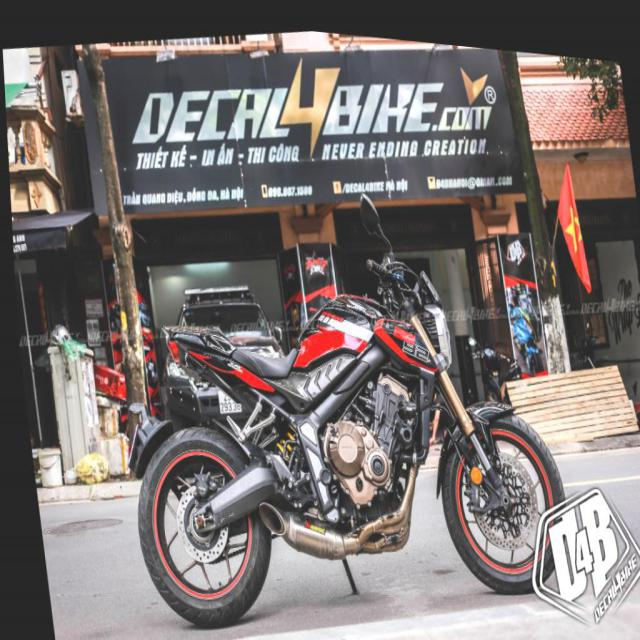CB650R: (99, 204, 576, 639)
